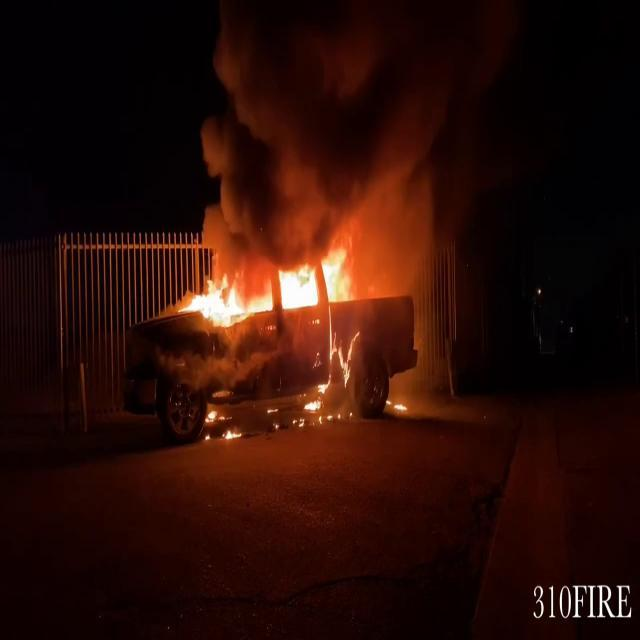Fire: (186, 241, 360, 326), (203, 400, 242, 443)
Smoke: (197, 0, 517, 265)
